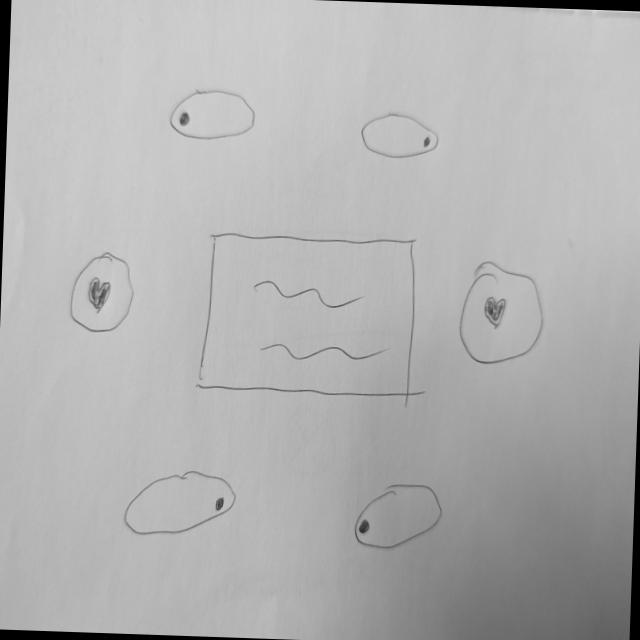icon-button: (454, 254, 548, 370), (66, 247, 136, 336)
textarea: (194, 227, 422, 400)
toggle: (123, 466, 240, 538), (350, 479, 444, 557), (168, 85, 258, 144), (357, 109, 442, 163)
